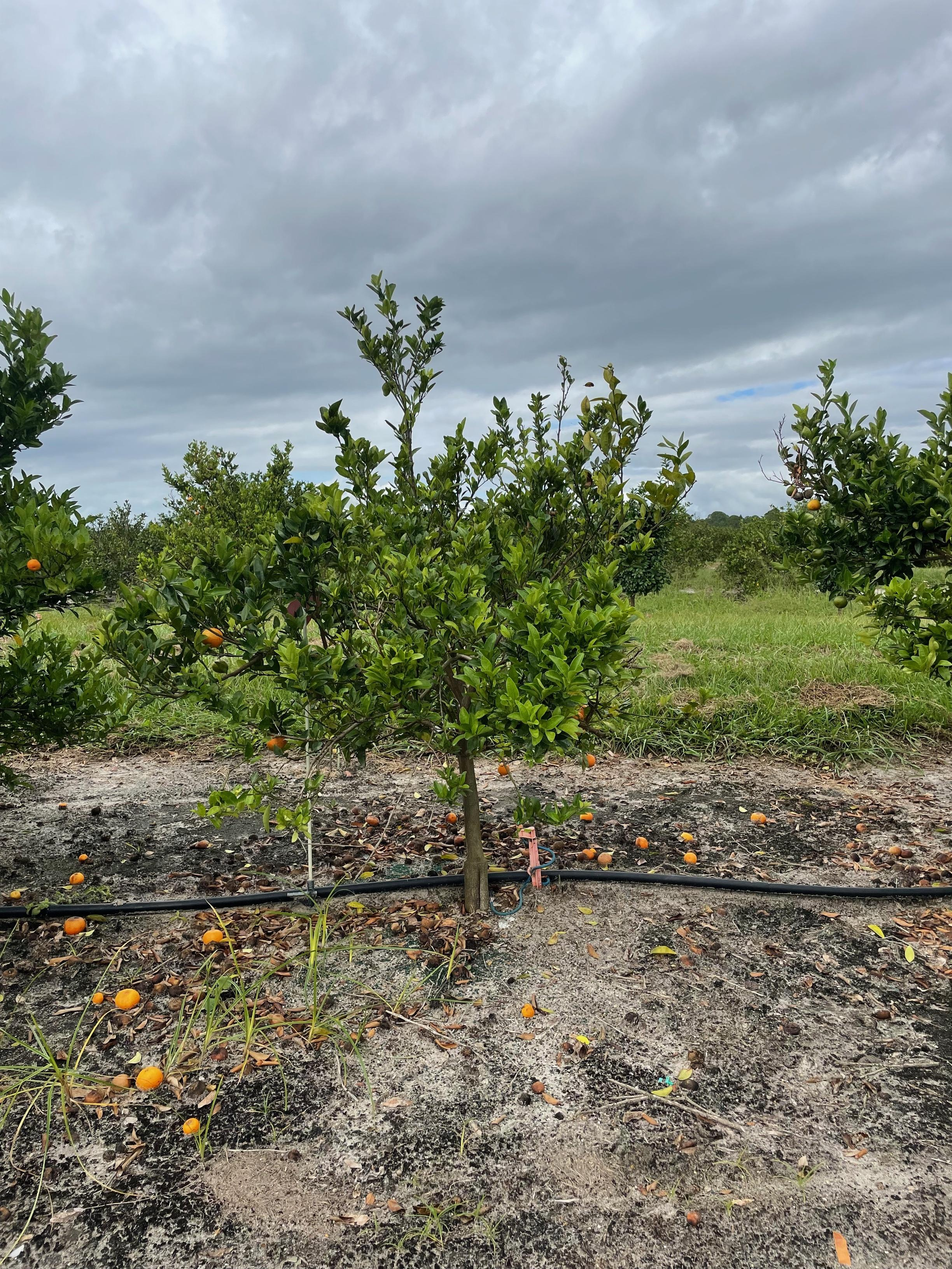fruit_on_ground: (197, 624, 226, 652), (263, 732, 290, 755), (564, 710, 585, 730), (210, 657, 230, 676), (575, 703, 595, 721), (25, 556, 43, 574), (832, 593, 850, 610), (581, 752, 598, 769), (805, 496, 822, 512), (920, 516, 937, 532), (495, 762, 512, 777), (810, 547, 826, 562), (784, 483, 799, 497), (793, 489, 805, 502), (803, 487, 815, 499)
fruit_on_tree: (135, 1063, 165, 1092), (113, 986, 142, 1012), (61, 914, 88, 936), (180, 1114, 202, 1138), (199, 927, 225, 947), (82, 1086, 107, 1106), (110, 1071, 133, 1091), (519, 1000, 537, 1020), (67, 869, 87, 886), (529, 1079, 546, 1096), (748, 809, 766, 825), (682, 849, 698, 865), (597, 850, 613, 866), (90, 989, 105, 1006), (579, 847, 595, 862), (634, 834, 650, 849), (193, 837, 212, 849), (7, 888, 23, 902), (579, 809, 595, 823), (452, 833, 466, 848), (365, 812, 380, 826), (551, 839, 567, 852), (679, 829, 695, 842), (444, 811, 458, 825), (574, 852, 590, 864), (888, 843, 902, 856), (900, 845, 914, 857), (76, 851, 90, 863), (855, 822, 868, 833)
